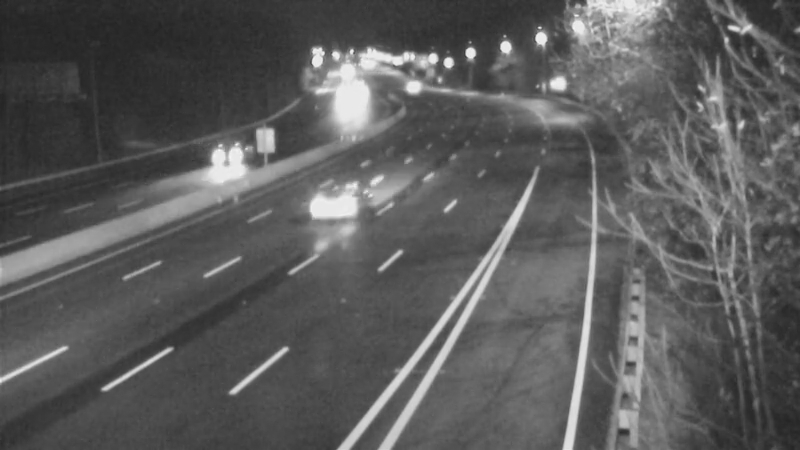vehicle: (302, 153, 382, 233), (194, 115, 274, 195), (384, 59, 434, 109), (320, 88, 370, 138)
